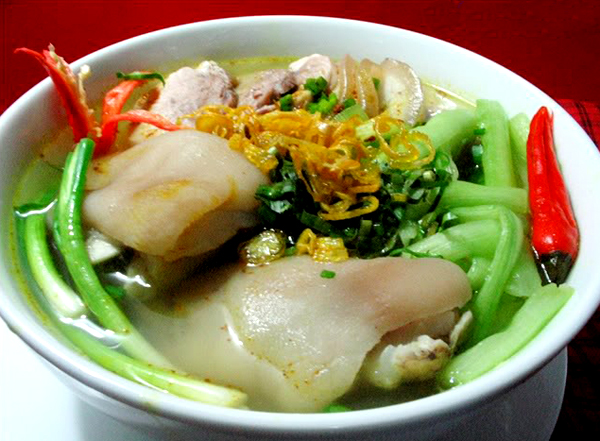chilli: (511, 106, 580, 291)
onion: (280, 163, 433, 252)
pork: (184, 255, 467, 374), (100, 136, 267, 263)
